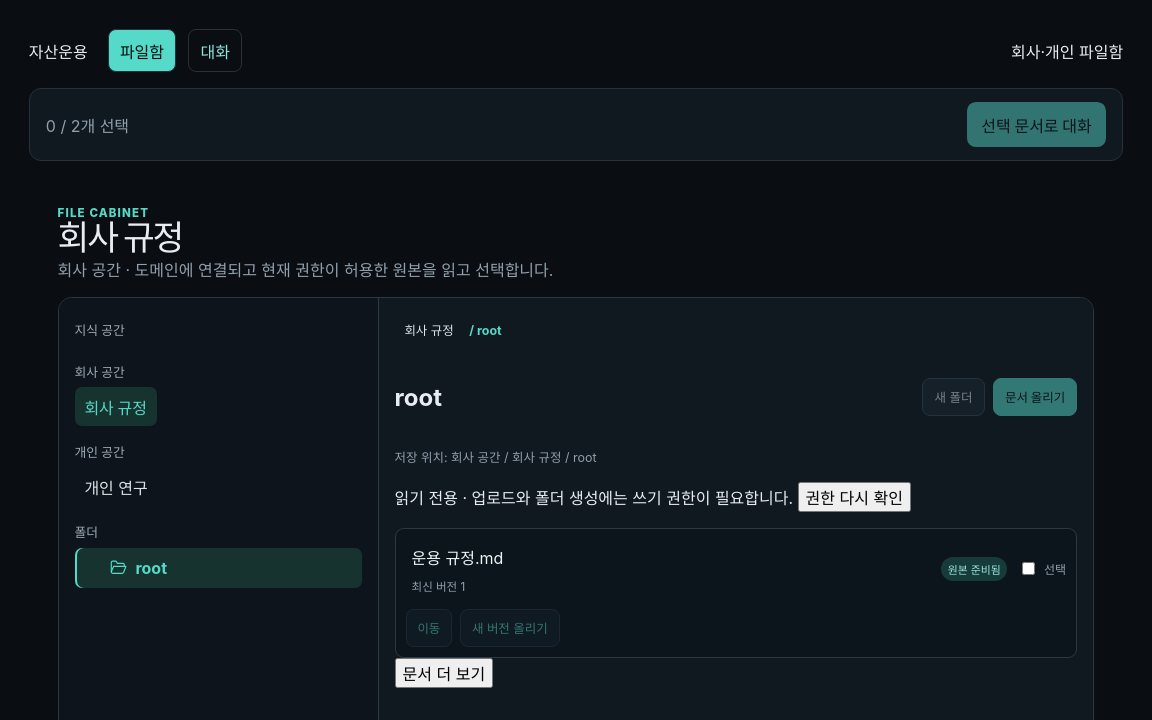
Test: keeps workspace navigation inside the domain and invalidates selection after an authorization failure
The width and height of the screenshot is (1152, 720).
Click the checkbox named "운용 규정.md 선택".
click(1029, 569)  # box [1022,562,1035,575]
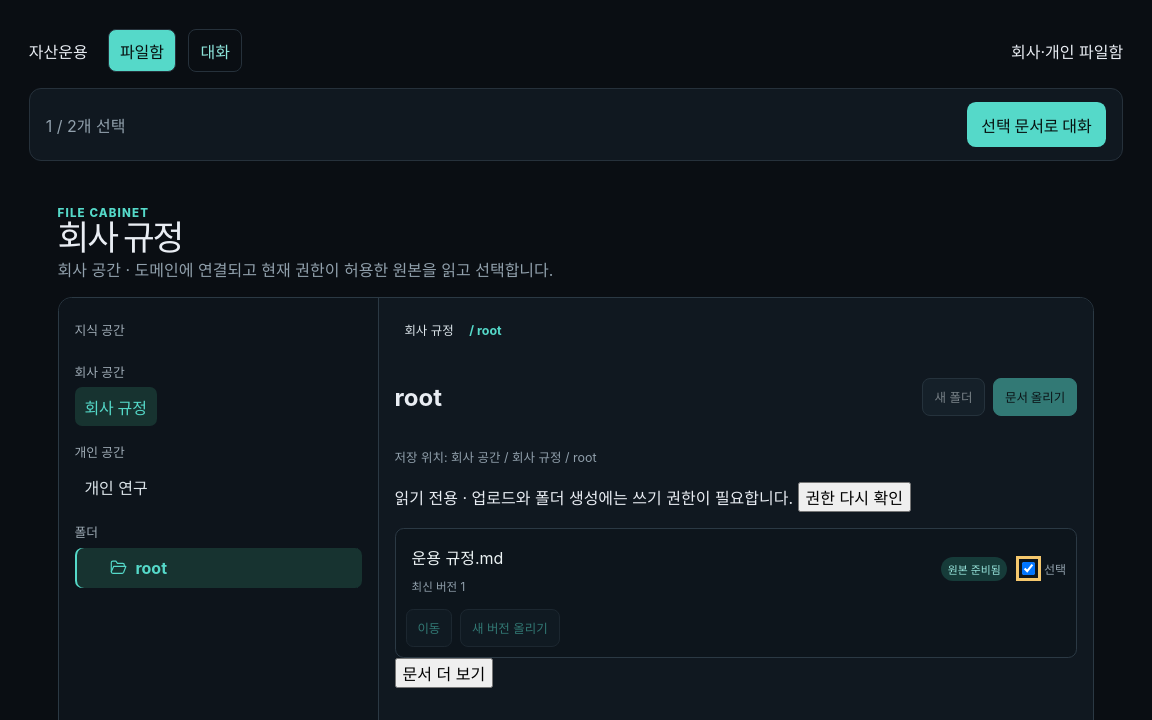
Click the button "개인 연구".
click(116, 487)  # box [75,467,158,506]
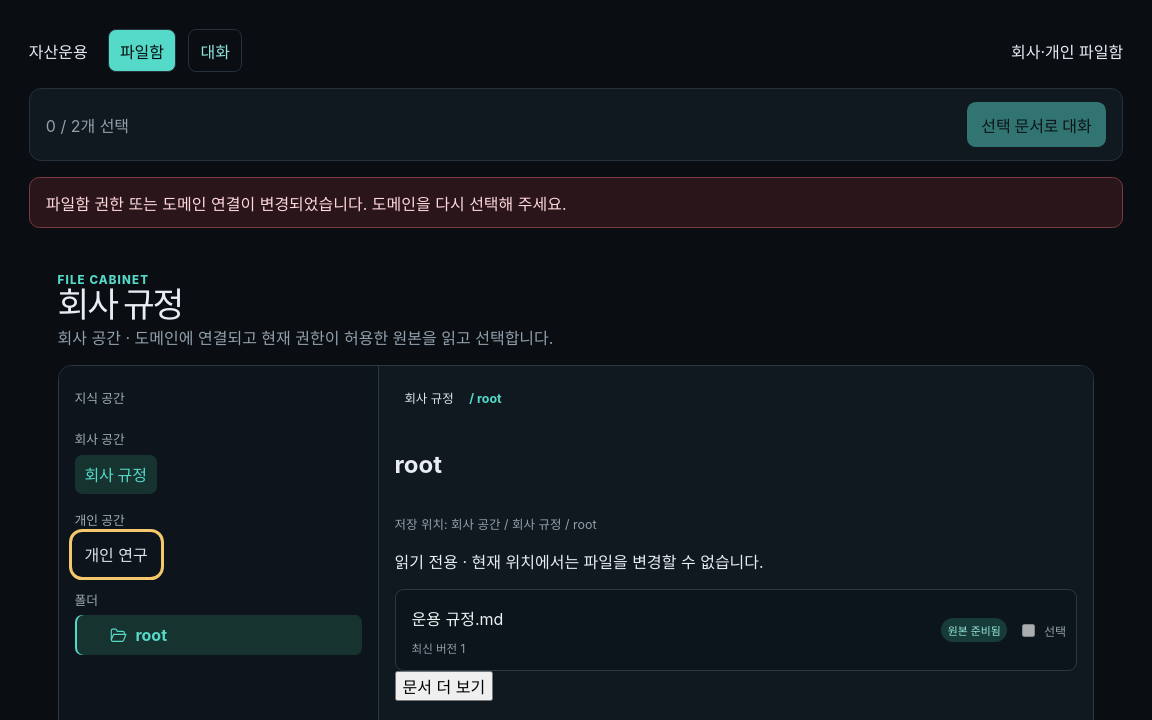
Result: the text "파일함 권한 또는 도메인 연결이 변경되었습니다. 도메인을 다시 선택해 주세요." is shown at [29,177,1123,228]
Result: the button "선택 문서로 대화" is disabled at [967,102,1106,147]
